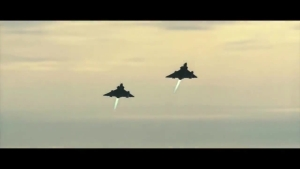flight: (165, 61, 198, 81), (103, 81, 136, 98)
